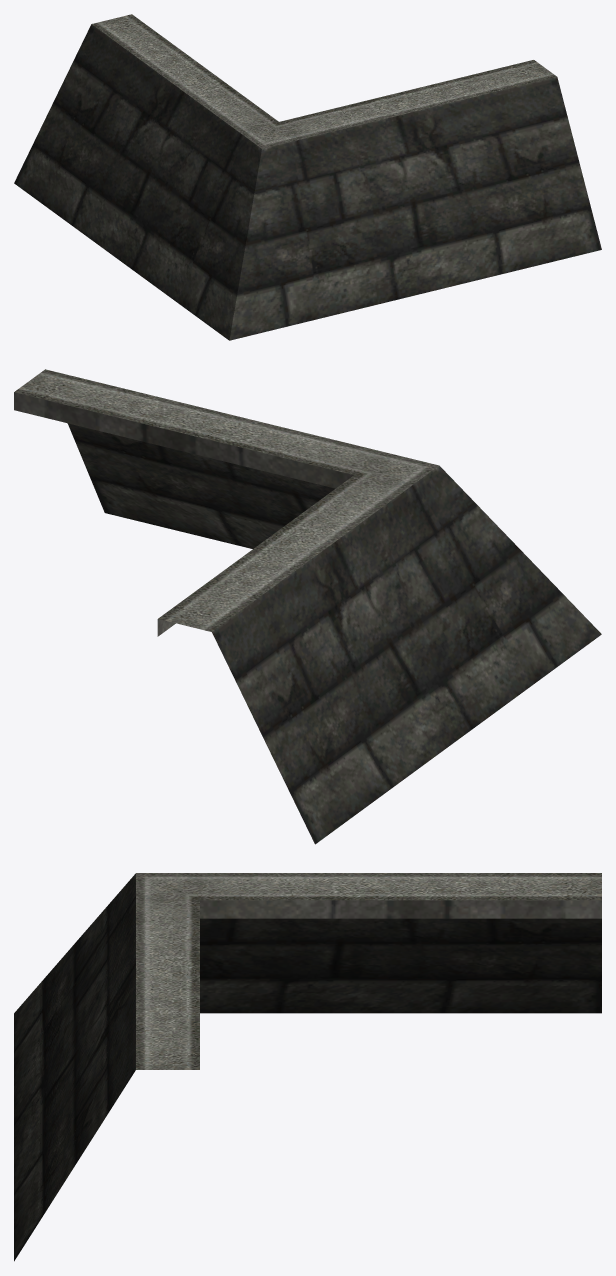
File: stadium_01_01.fbx
The picture shows the model from 3 angles, top to bottom: view 1: azimuth 30°, elevation 25°; view 2: azimuth 150°, elevation 25°; view 3: azimuth 270°, elevation 25°; orthographic projection. The views are drawn at different scales.
Parts seen in each view (by area): view 1: stadium_01_01; view 2: stadium_01_01; view 3: stadium_01_01.
Part boxes in pixels (bbox=[...]): stadium_01_01: bbox=[14, 14, 601, 340]; stadium_01_01: bbox=[14, 369, 601, 844]; stadium_01_01: bbox=[14, 873, 601, 1261].
Size of the model in its own units: 10.5 by 3.78 by 10.5.
